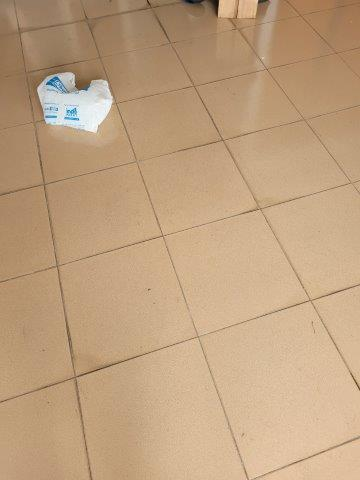plastik: (36, 70, 114, 134)
